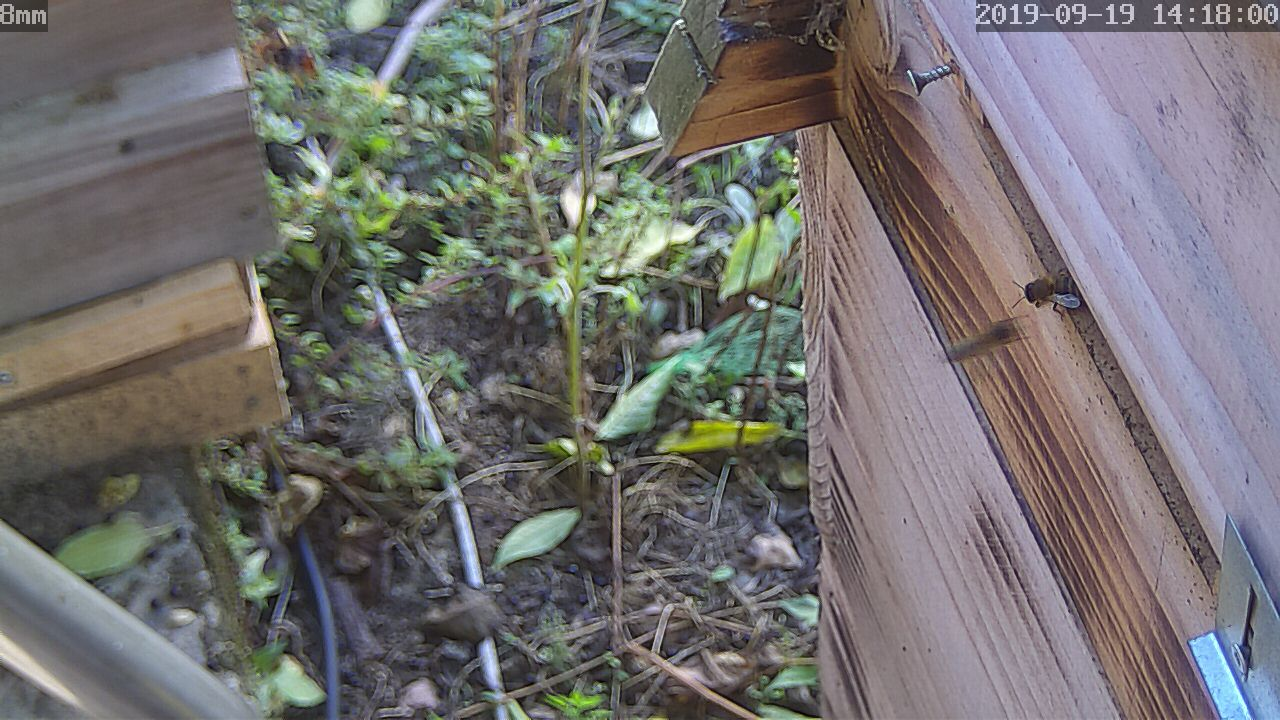bee: (1017, 269, 1085, 316)
